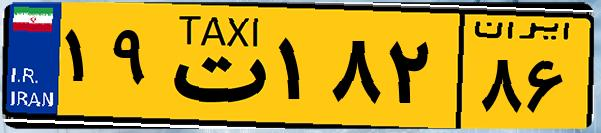1: (270, 28, 330, 110), (57, 26, 110, 100)
2: (385, 28, 445, 110)
6: (525, 38, 570, 115)
8: (330, 28, 385, 110), (475, 38, 525, 113)
9: (110, 28, 158, 98)
ت: (158, 12, 270, 120)
